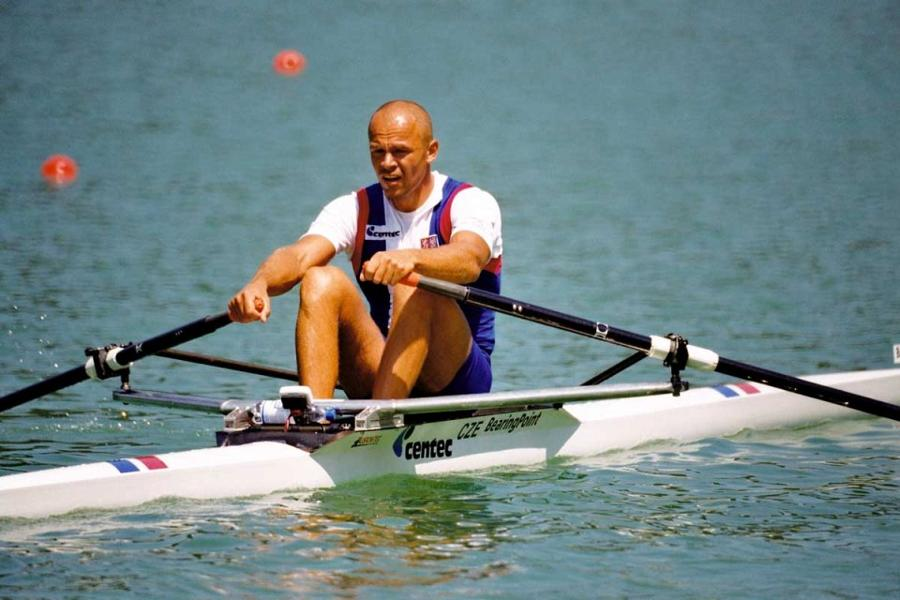person: (228, 98, 505, 401)
